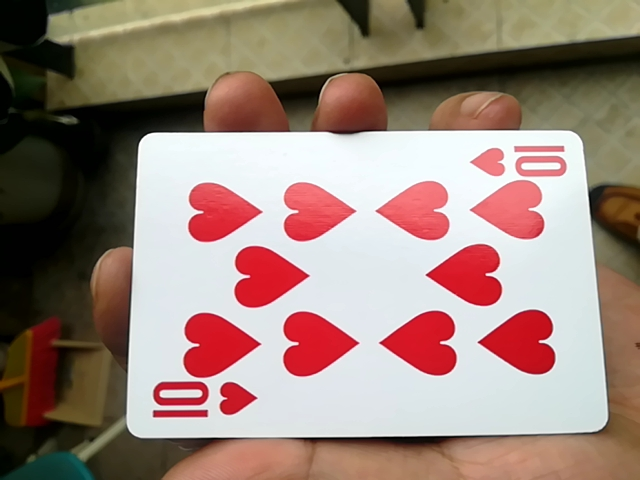hx 10: (118, 129, 595, 453)
